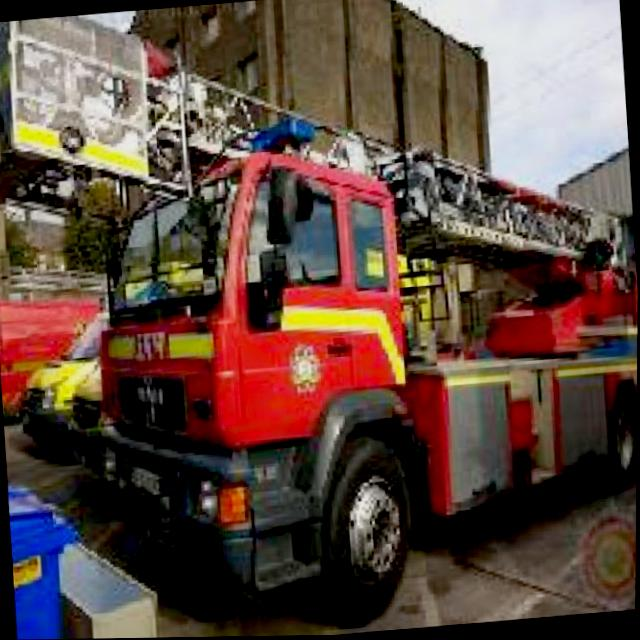emergency: (74, 86, 639, 639)
